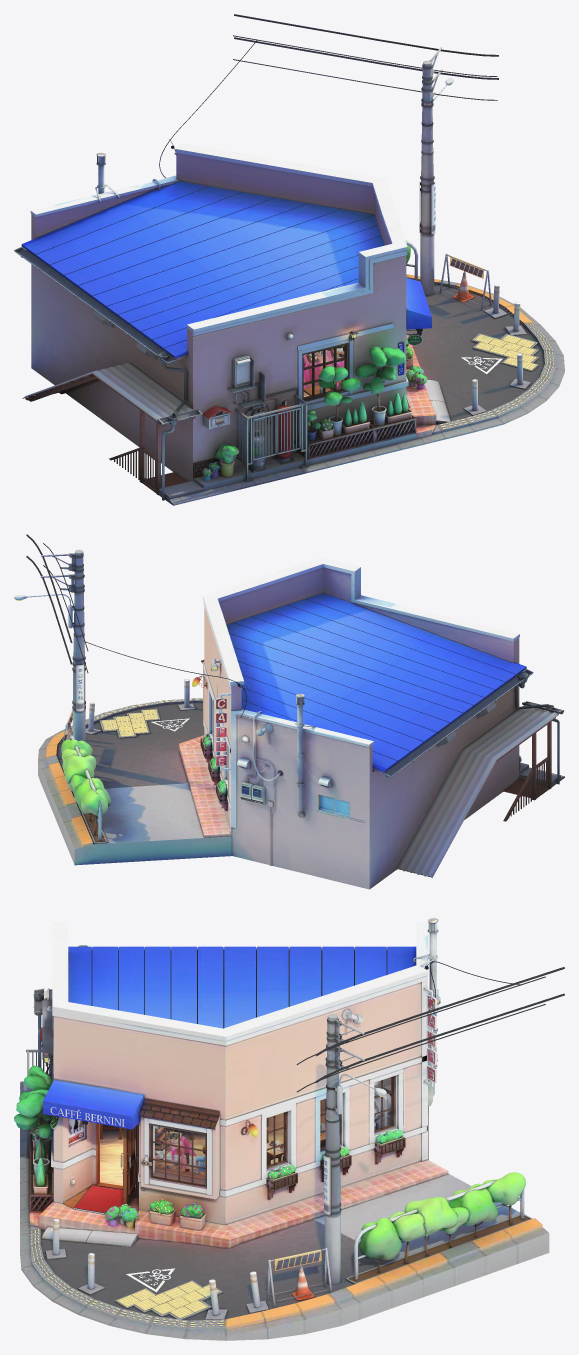
File: compressed_caffe.glb
The picture shows the model from 3 angles, top to bottom: view 1: azimuth 30°, elevation 25°; view 2: azimuth 150°, elevation 25°; view 3: azimuth 270°, elevation 25°; orthographic projection. The views are drawn at different scales.
Visible parts, largest first — view 1: Outside_Outside_0, Inside_Inside_0, Outside_Glass_0; view 2: Outside_Outside_0; view 3: Outside_Outside_0, Inside_Inside_0, Outside_Glass_0, Stuff_Stuff_0.
Boxes of the visible parts, left/top/right/bottom form: Outside_Outside_0: left=14, top=14, right=564, bottom=505; Inside_Inside_0: left=303, top=345, right=344, bottom=397; Outside_Glass_0: left=304, top=346, right=344, bottom=397; Outside_Outside_0: left=14, top=534, right=564, bottom=889; Outside_Outside_0: left=14, top=918, right=564, bottom=1340; Inside_Inside_0: left=100, top=1068, right=403, bottom=1188; Outside_Glass_0: left=153, top=1077, right=392, bottom=1184; Stuff_Stuff_0: left=100, top=1124, right=325, bottom=1171.
Bounding box in the file's own units: 11698 × 6022 × 10469.
Materials: 7 (5 with a texture image).
